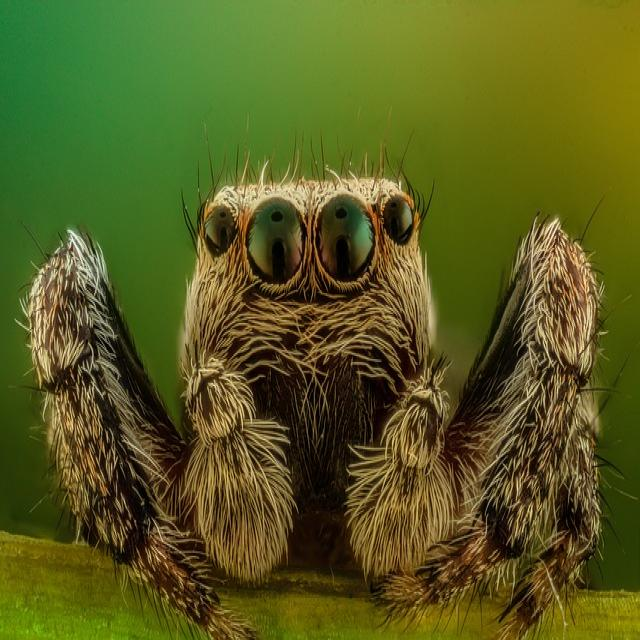spyder: (20, 152, 604, 631)
